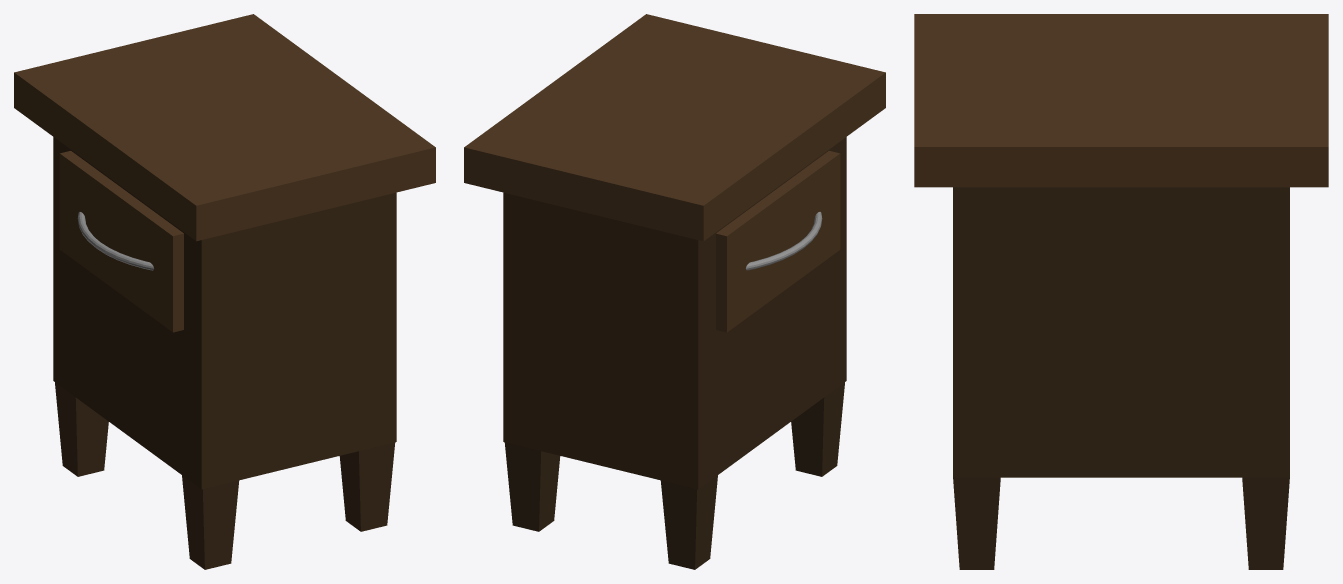
The model's file is drawer.fbx.
The picture shows the model from 3 angles, left to right: view 1: azimuth 30°, elevation 25°; view 2: azimuth 150°, elevation 25°; view 3: azimuth 270°, elevation 25°; orthographic projection. The views are drawn at different scales.
Parts seen in each view (by area): view 1: Cube.001, Cube, Cube.003, Cube.002, Torus.001; view 2: Cube.001, Cube, Cube.003, Cube.002, Torus.001; view 3: Cube.001, Cube, Cube.002.
Part boxes in pixels (left/top/right/bottom): Cube.001: left=53, top=137, right=396, bottom=489; Cube: left=14, top=14, right=435, bottom=241; Cube.003: left=59, top=151, right=183, bottom=332; Cube.002: left=55, top=382, right=395, bottom=569; Torus.001: left=77, top=212, right=153, bottom=270; Cube.001: left=503, top=137, right=846, bottom=489; Cube: left=464, top=14, right=885, bottom=241; Cube.003: left=716, top=151, right=840, bottom=332; Cube.002: left=504, top=382, right=844, bottom=569; Torus.001: left=746, top=212, right=822, bottom=270; Cube.001: left=953, top=187, right=1289, bottom=477; Cube: left=914, top=14, right=1328, bottom=187; Cube.002: left=953, top=477, right=1289, bottom=569.
Bounding box in the file's own units: 158 × 234 × 200.
